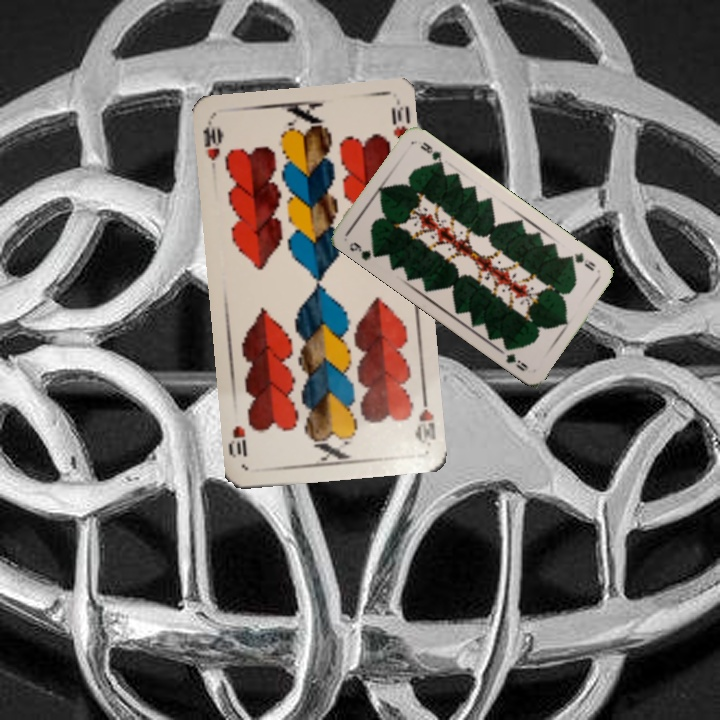G9: (345, 238, 382, 263), (564, 248, 598, 274)
H10: (198, 117, 226, 177), (412, 389, 439, 449)
